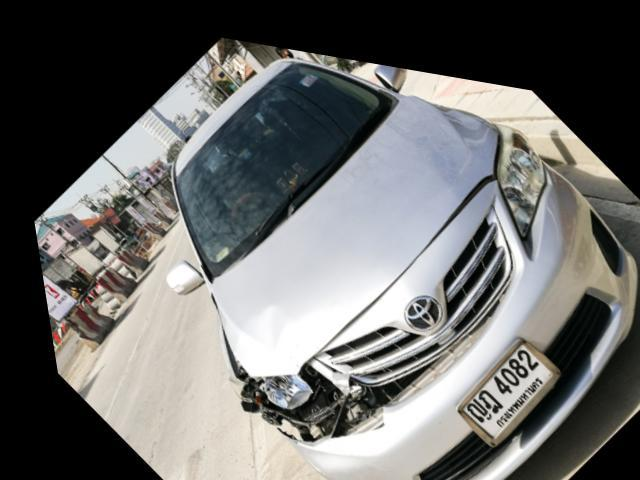dent: (230, 298, 280, 341)
dislocated part: (226, 142, 633, 480)
lamp broken: (232, 357, 357, 432)
